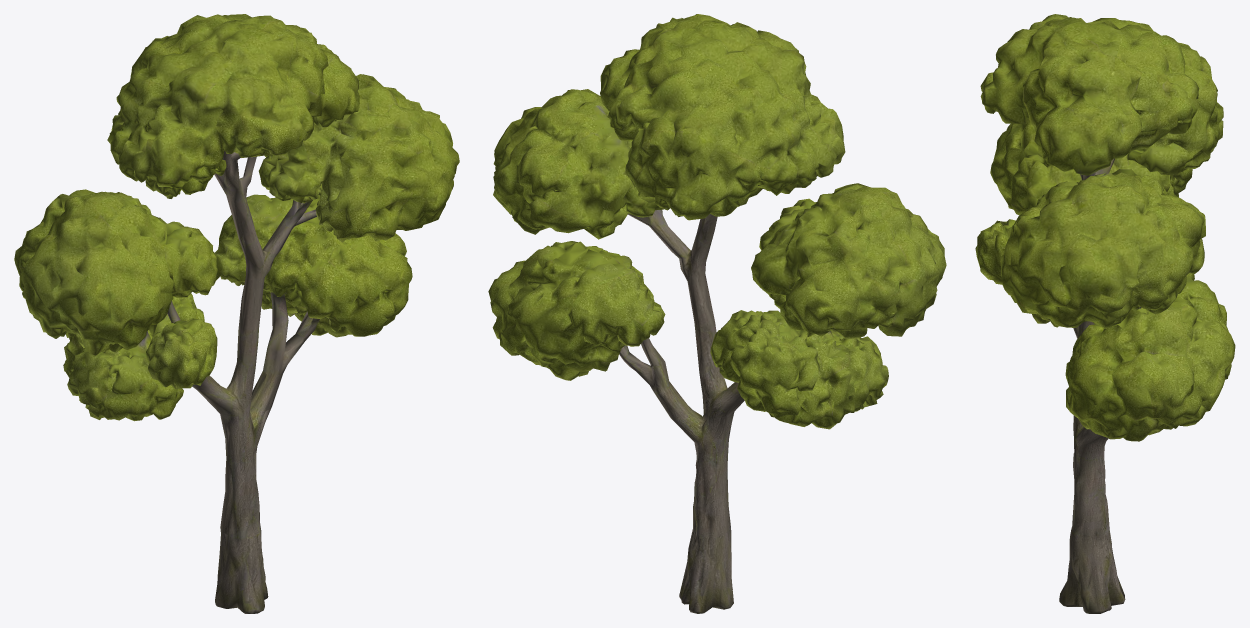
The model's file is fresno_alto.glb.
3 renders of one model, left to right at view 1: azimuth 30°, elevation 25°; view 2: azimuth 150°, elevation 25°; view 3: azimuth 270°, elevation 25°, orthographic.
Visible parts, largest first — view 1: alto; view 2: alto; view 3: alto.
Part boxes in pixels (x1,y1,x2,y2): alto: (14,14,459,613); alto: (488,14,946,613); alto: (975,14,1235,613).
Bounding box in the file's own units: 7.11 × 9.2 × 3.75.
1 material, 1 textured.
